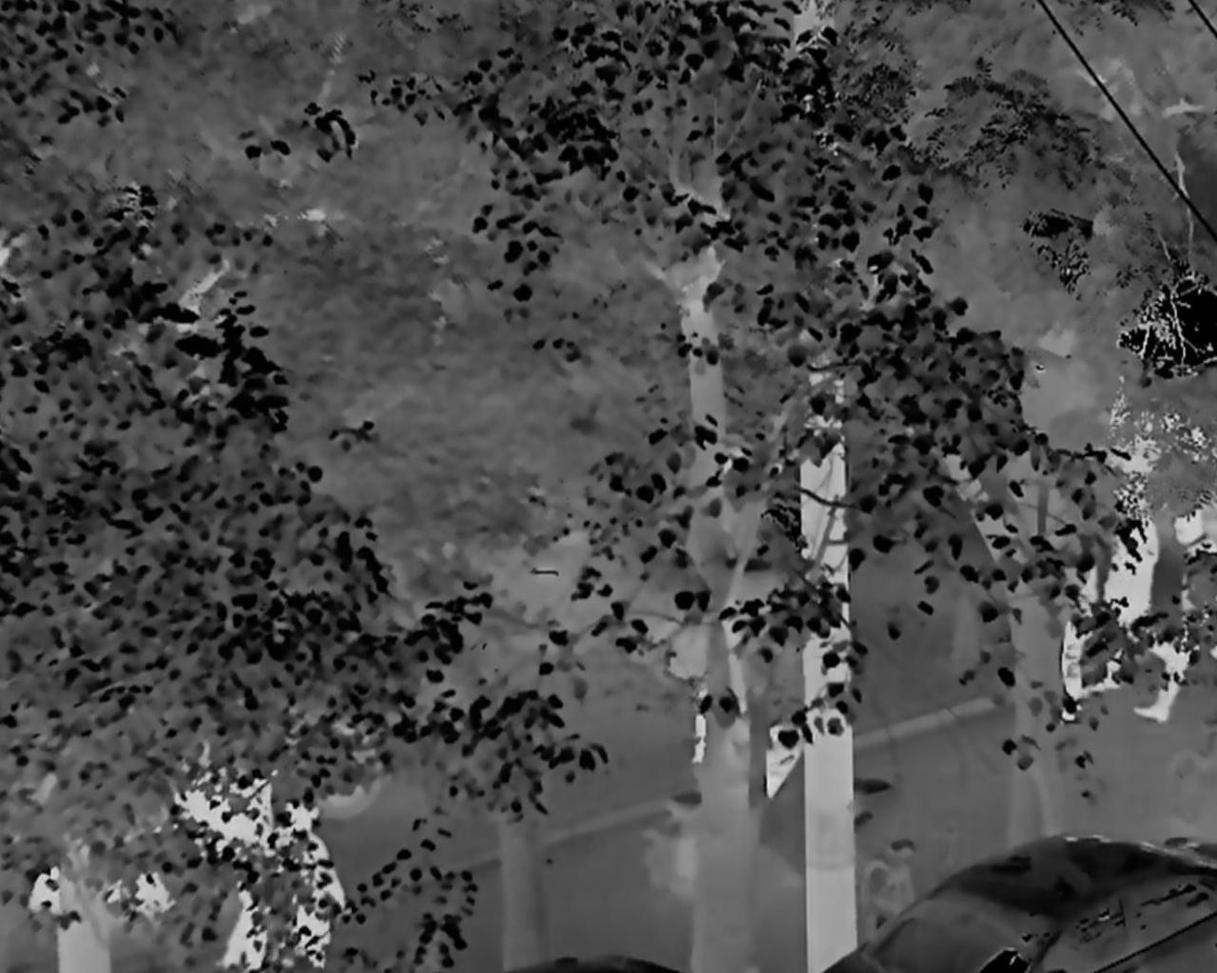person: (1101, 469, 1174, 720), (1133, 509, 1217, 725), (259, 799, 346, 973)
